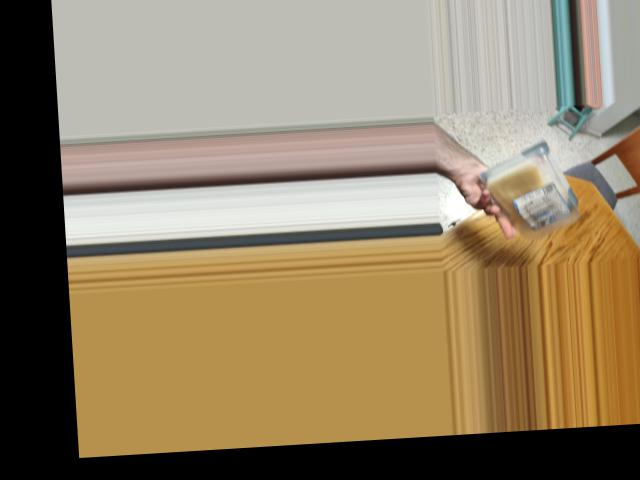cheese: (501, 139, 579, 234)
